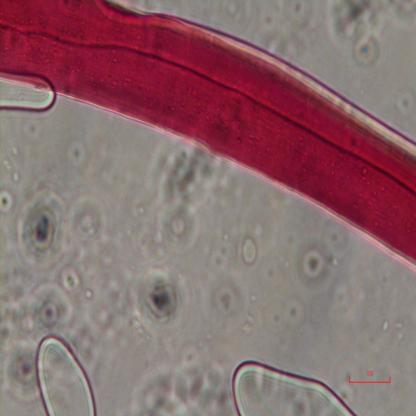Air bubble: (233, 356, 354, 416), (31, 329, 100, 416), (0, 72, 54, 123)
Background material: (140, 147, 214, 249), (136, 348, 235, 416), (8, 182, 75, 275), (60, 258, 130, 346), (326, 0, 416, 67), (129, 263, 188, 341), (202, 276, 258, 336), (23, 280, 74, 333), (61, 189, 106, 243), (0, 340, 39, 402), (288, 234, 333, 287), (259, 288, 303, 336), (57, 125, 87, 175), (283, 0, 312, 32), (238, 229, 258, 274), (390, 86, 416, 116), (0, 181, 16, 220), (378, 318, 390, 335)
Microfibre: (0, 0, 416, 270)
